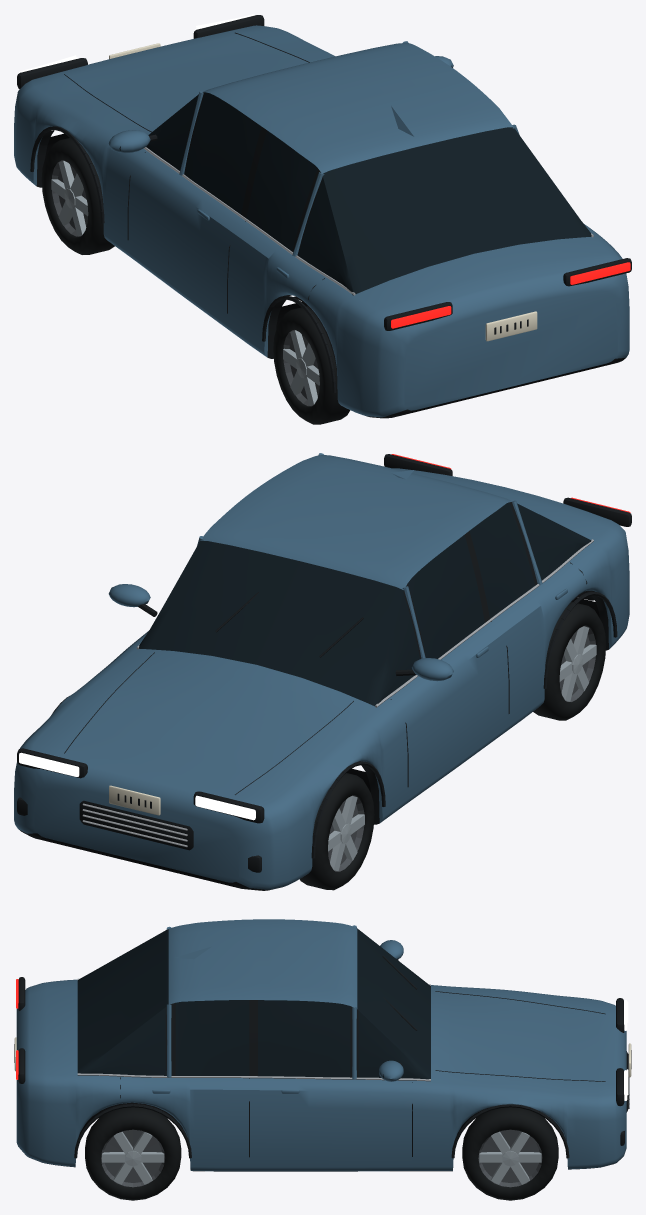
File: civilian-car.glb
3 views of the same model, one above another, from view 1: azimuth 30°, elevation 25°; view 2: azimuth 150°, elevation 25°; view 3: azimuth 270°, elevation 25° (orthographic). The views are drawn at different scales.
Visible parts, largest first — view 1: body, wheel_RL, wheel_FL; view 2: body, wheel_RL, wheel_FL; view 3: body, wheel_RR, wheel_FR.
Part boxes in pixels (<box>): body: <box>14,14,631,418</box>; wheel_RL: <box>273,306,350,424</box>; wheel_FL: <box>41,138,114,254</box>; body: <box>14,453,631,890</box>; wheel_RL: <box>533,602,606,720</box>; wheel_FL: <box>299,773,374,890</box>; body: <box>14,919,631,1171</box>; wheel_RR: <box>85,1107,181,1200</box>; wheel_FR: <box>462,1107,558,1200</box>.
Bounding box in the file's own units: 2.27 × 1.57 × 4.36.
